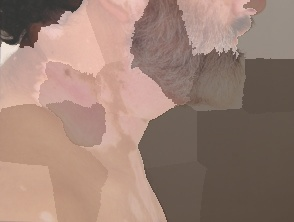vitiligo: (0, 0, 266, 222)
